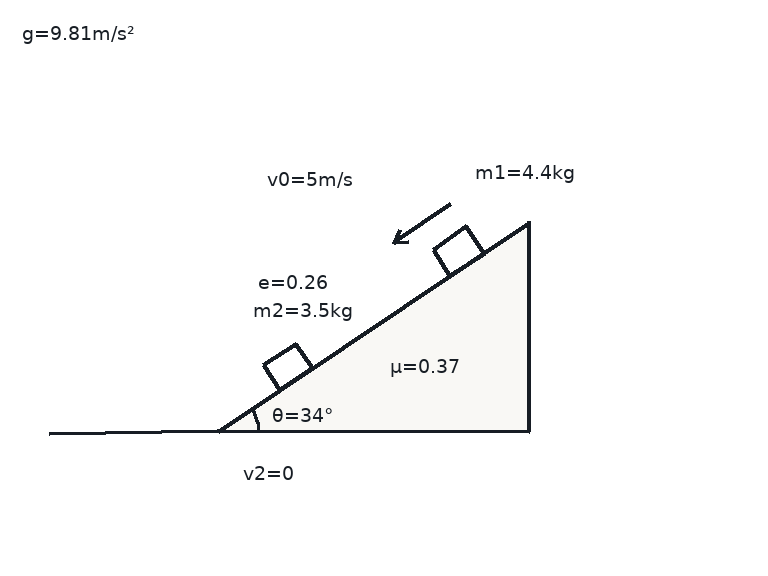block: (430, 225, 485, 277), (261, 342, 314, 392)
ramp: (216, 220, 530, 433)
